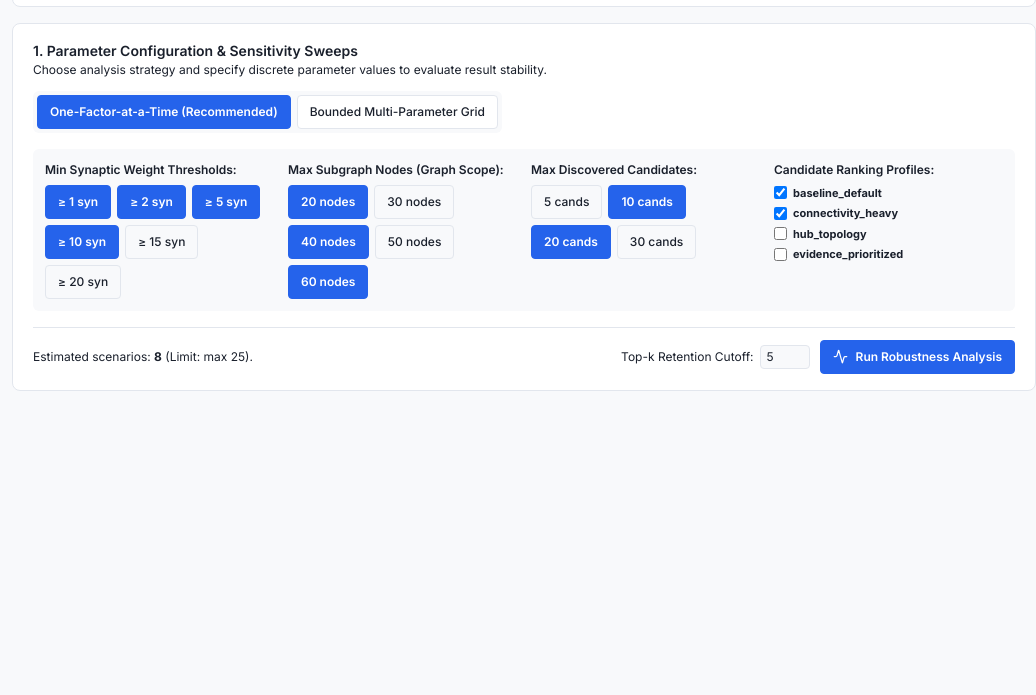
Test: RobustnessLab (V10) Component › navigates to Directed Edge Stability sub-tab and renders connections
The width and height of the screenshot is (1036, 695).
Click the button "Run Robustness Analysis".
click(917, 356)  # box top-left (820, 340), bottom-right (1015, 374)
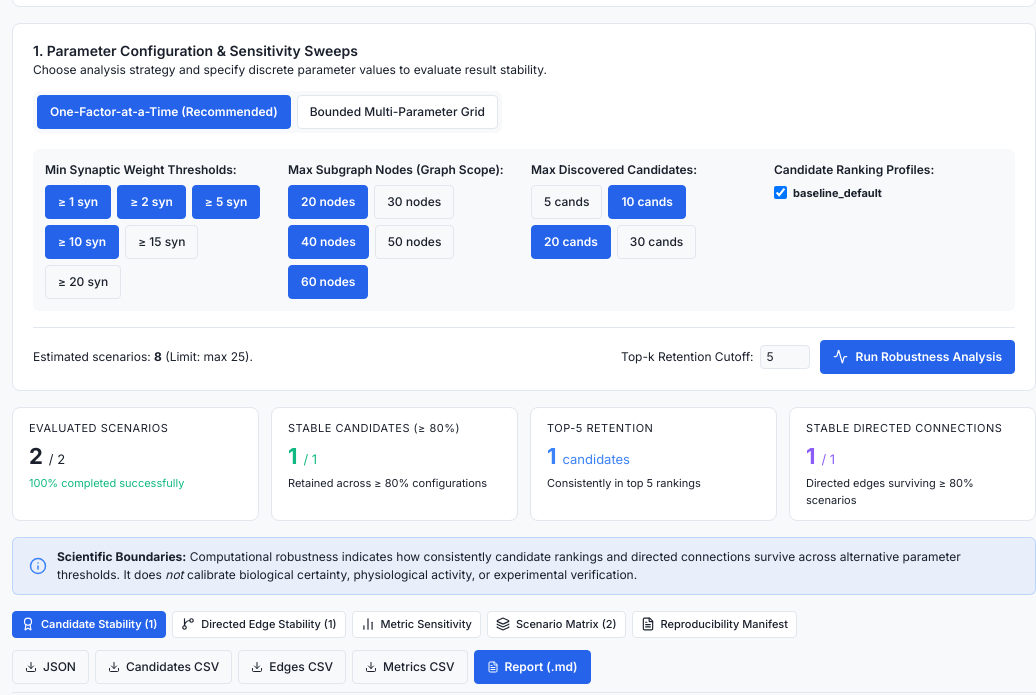
Now the text "Directed Edge Stability (1)" is shown, box top-left (201, 616), bottom-right (336, 632)
Click the button "Directed Edge Stability (1)".
click(259, 624)  # box top-left (172, 611), bottom-right (346, 638)
(page scrolled)
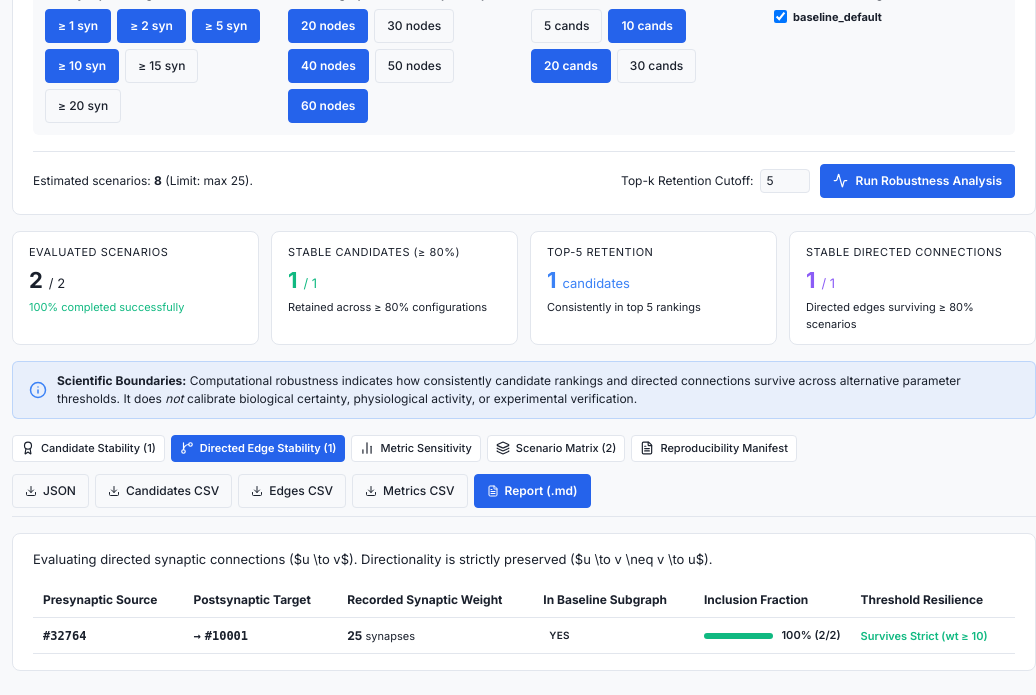
Now the column heading "Presynaptic Source" is shown, box top-left (33, 583), bottom-right (184, 618)
Now the column heading "Postsynaptic Target" is shown, box top-left (184, 583), bottom-right (337, 618)
Now the text "25" is shown, box top-left (347, 628), bottom-right (362, 642)
